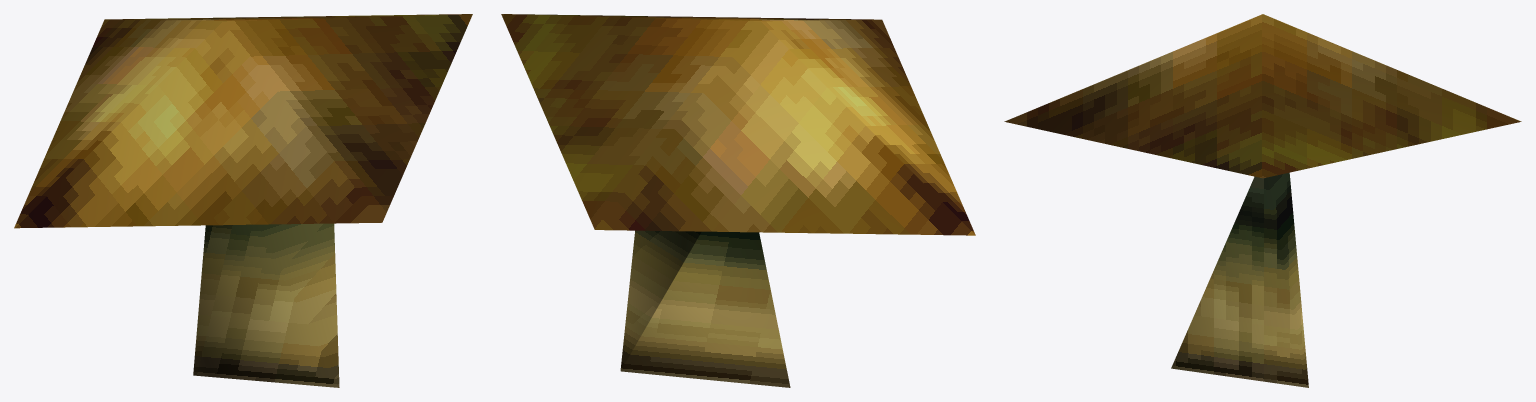
File: frst_fngi_mushroom_redyellow_sm_l1.fbx
3 views of the same model, side by side, from view 1: azimuth 30°, elevation 25°; view 2: azimuth 150°, elevation 25°; view 3: azimuth 270°, elevation 25° (orthographic). The views are drawn at different scales.
Visible parts, largest first — view 1: mesh_node; view 2: mesh_node; view 3: mesh_node.
Boxes of the visible parts, x1,y1,x2,y2 form: mesh_node: [14, 14, 472, 387]; mesh_node: [501, 14, 975, 387]; mesh_node: [1004, 14, 1521, 387].
Size of the model in its own units: 0.2265 by 0.1638 by 0.2375.
Materials: 1 (1 with a texture image).
